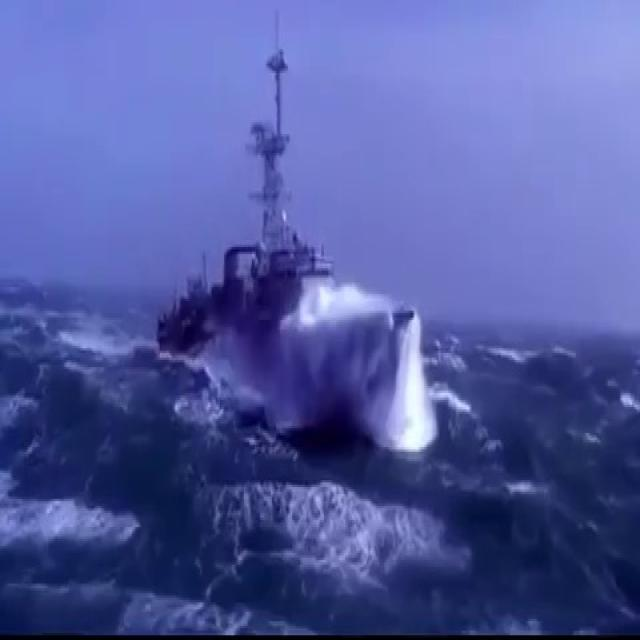houseboat: (146, 39, 409, 434)
